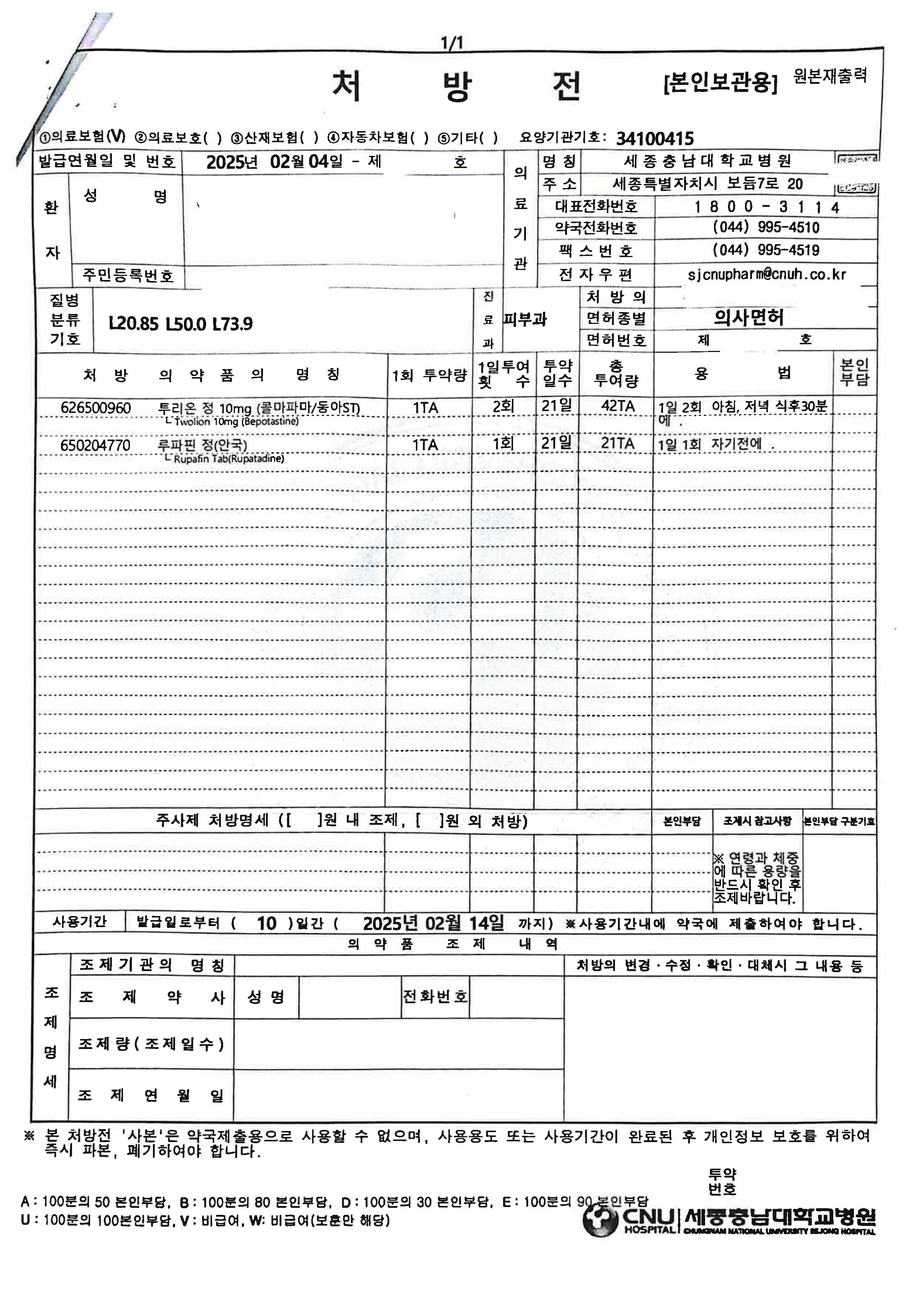row: (27, 937, 563, 1126), (25, 809, 878, 916), (31, 49, 880, 151), (31, 151, 503, 287), (563, 944, 877, 1114), (503, 151, 879, 285), (31, 352, 877, 398), (30, 396, 877, 435), (30, 435, 877, 470), (30, 288, 472, 354), (581, 286, 879, 352), (27, 912, 878, 935), (473, 287, 580, 353)
